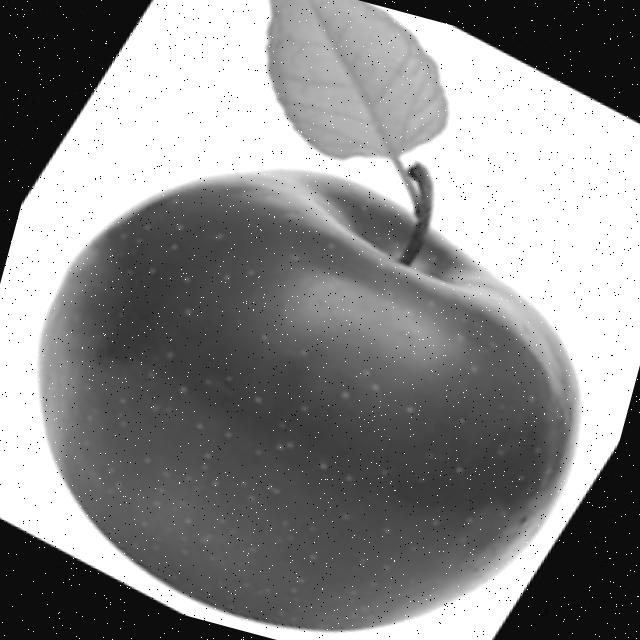Ripe: (0, 100, 635, 640)
